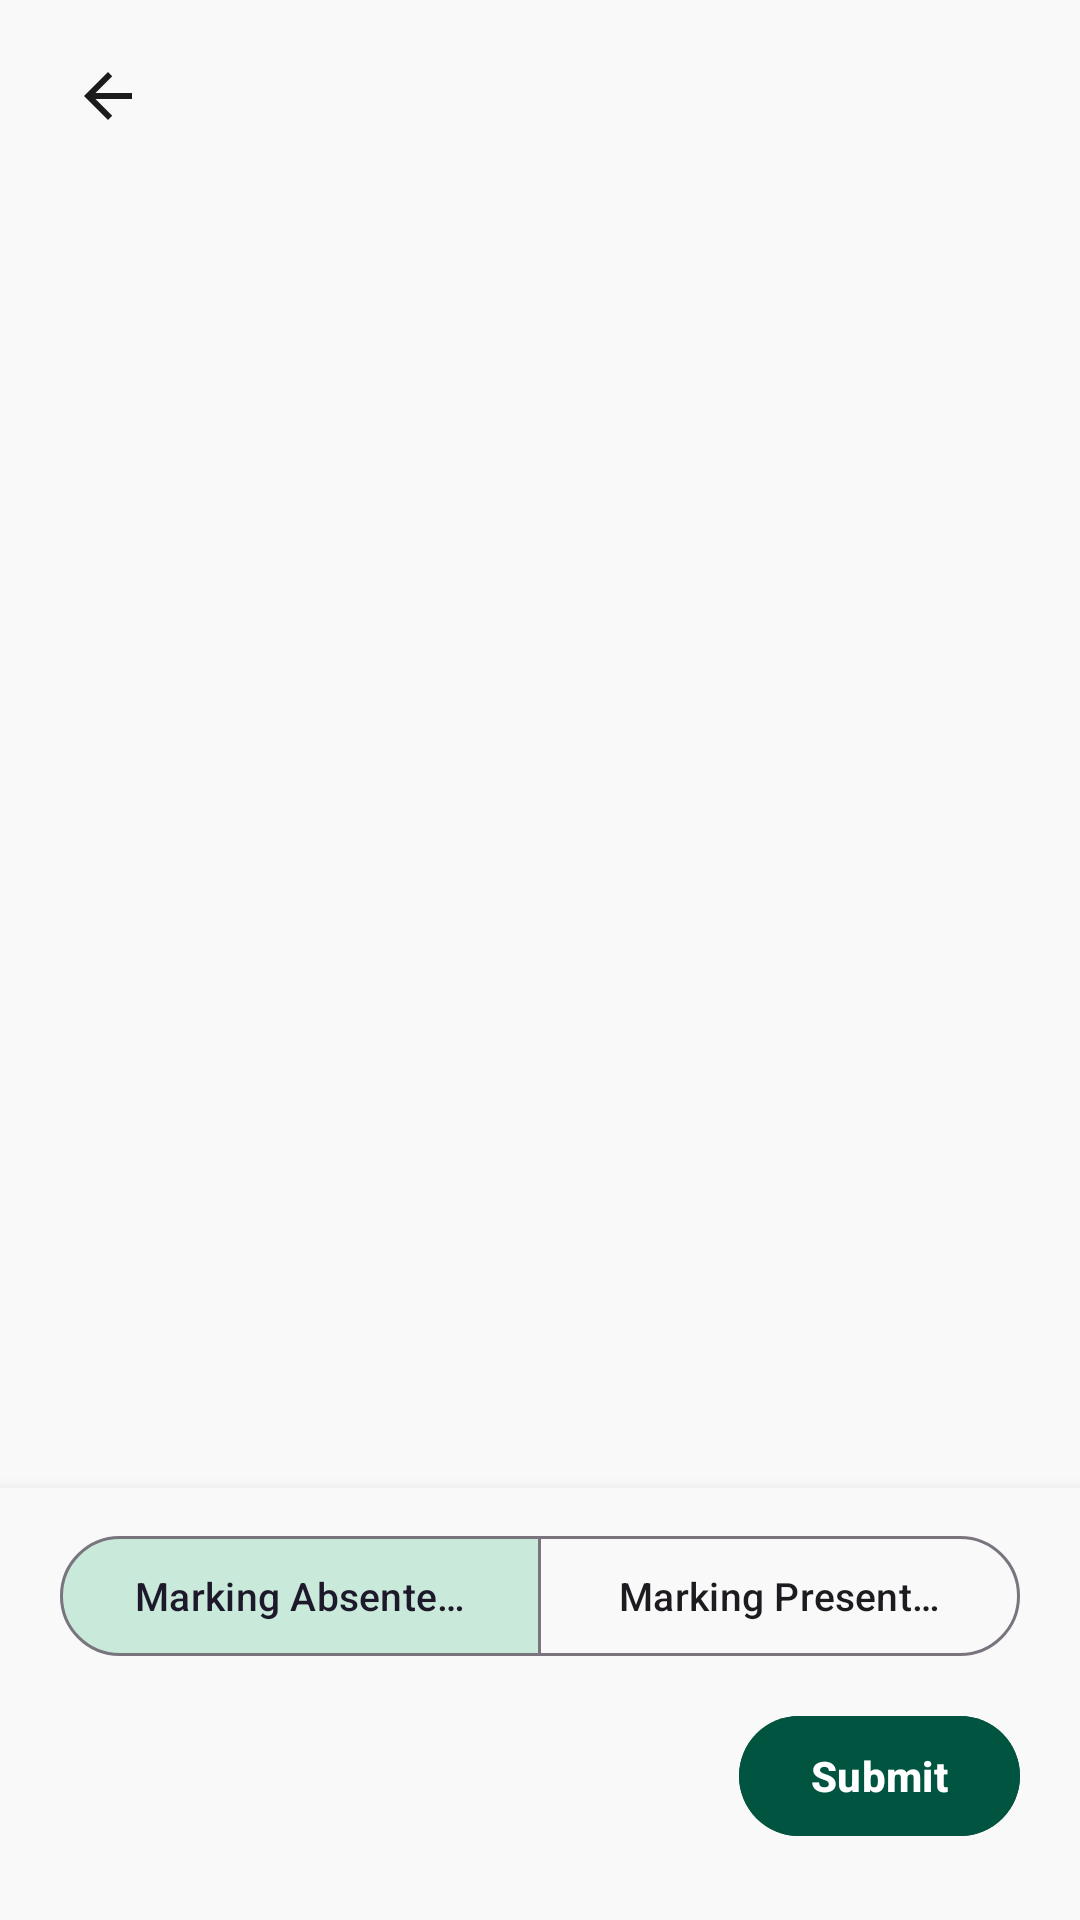

Named icons in this screenshot (1080w x 1920h) and their bounding boxes, bbox(x1, y1, x2, y2):
arrow back: bbox(84, 72, 132, 120)
